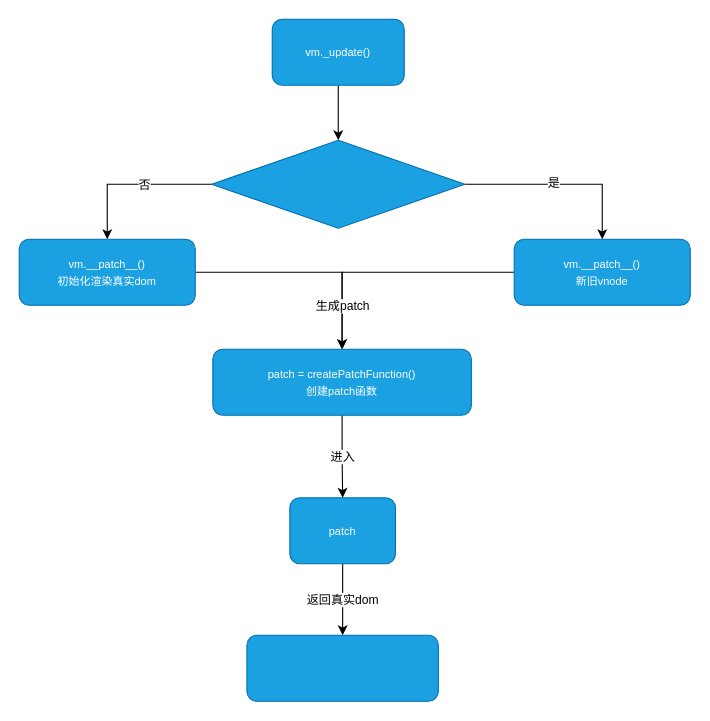
Some shapes in this 710 by 721 pixel diagram are drawn without their labels. Here are the shapes that lost their labels. From the top down, the centre of each, then its label:
point 338,183: prevVnode存在？
point 342,667: patch返回的真实dom重新赋值到vm.$el
